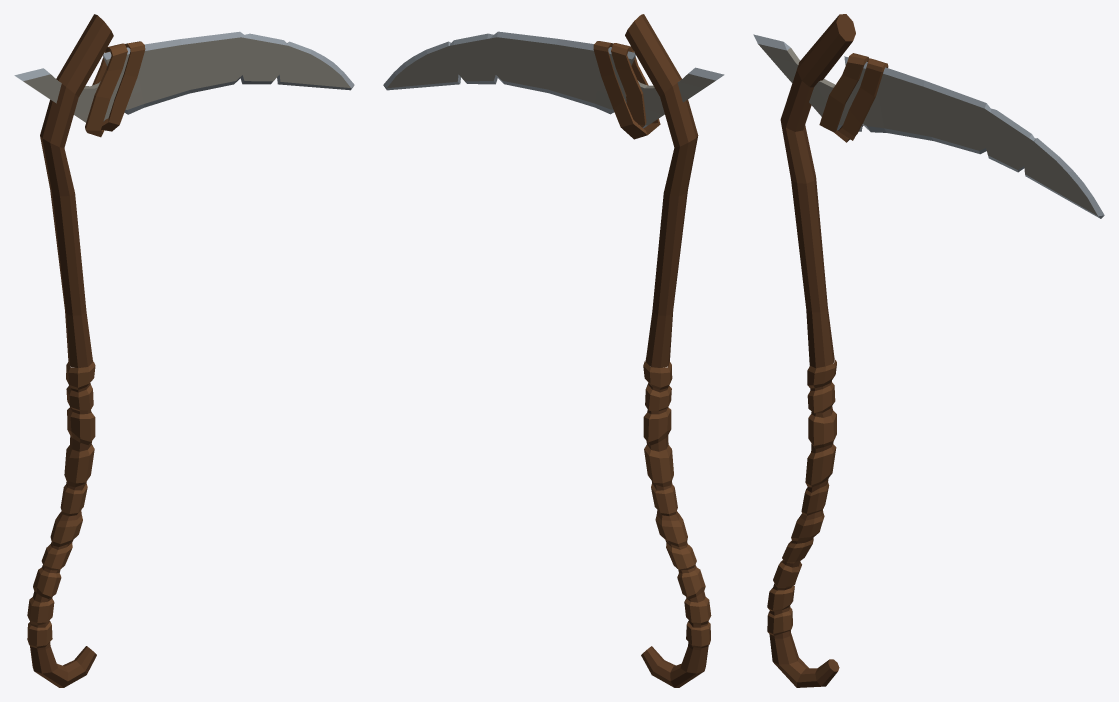
The model's file is cc0-scythe-lod1.glb.
3 renders of one model, left to right at view 1: azimuth 30°, elevation 25°; view 2: azimuth 150°, elevation 25°; view 3: azimuth 330°, elevation 25°, orthographic. The views are drawn at different scales.
Visible parts, largest first — view 1: part_0; view 2: part_0; view 3: part_0.
Boxes of the visible parts, left/top/right/bottom form: part_0: left=14, top=14, right=354, bottom=687; part_0: left=383, top=14, right=724, bottom=687; part_0: left=753, top=14, right=1104, bottom=687.
Bounding box in the file's own units: 3 × 5.58 × 0.2771.
